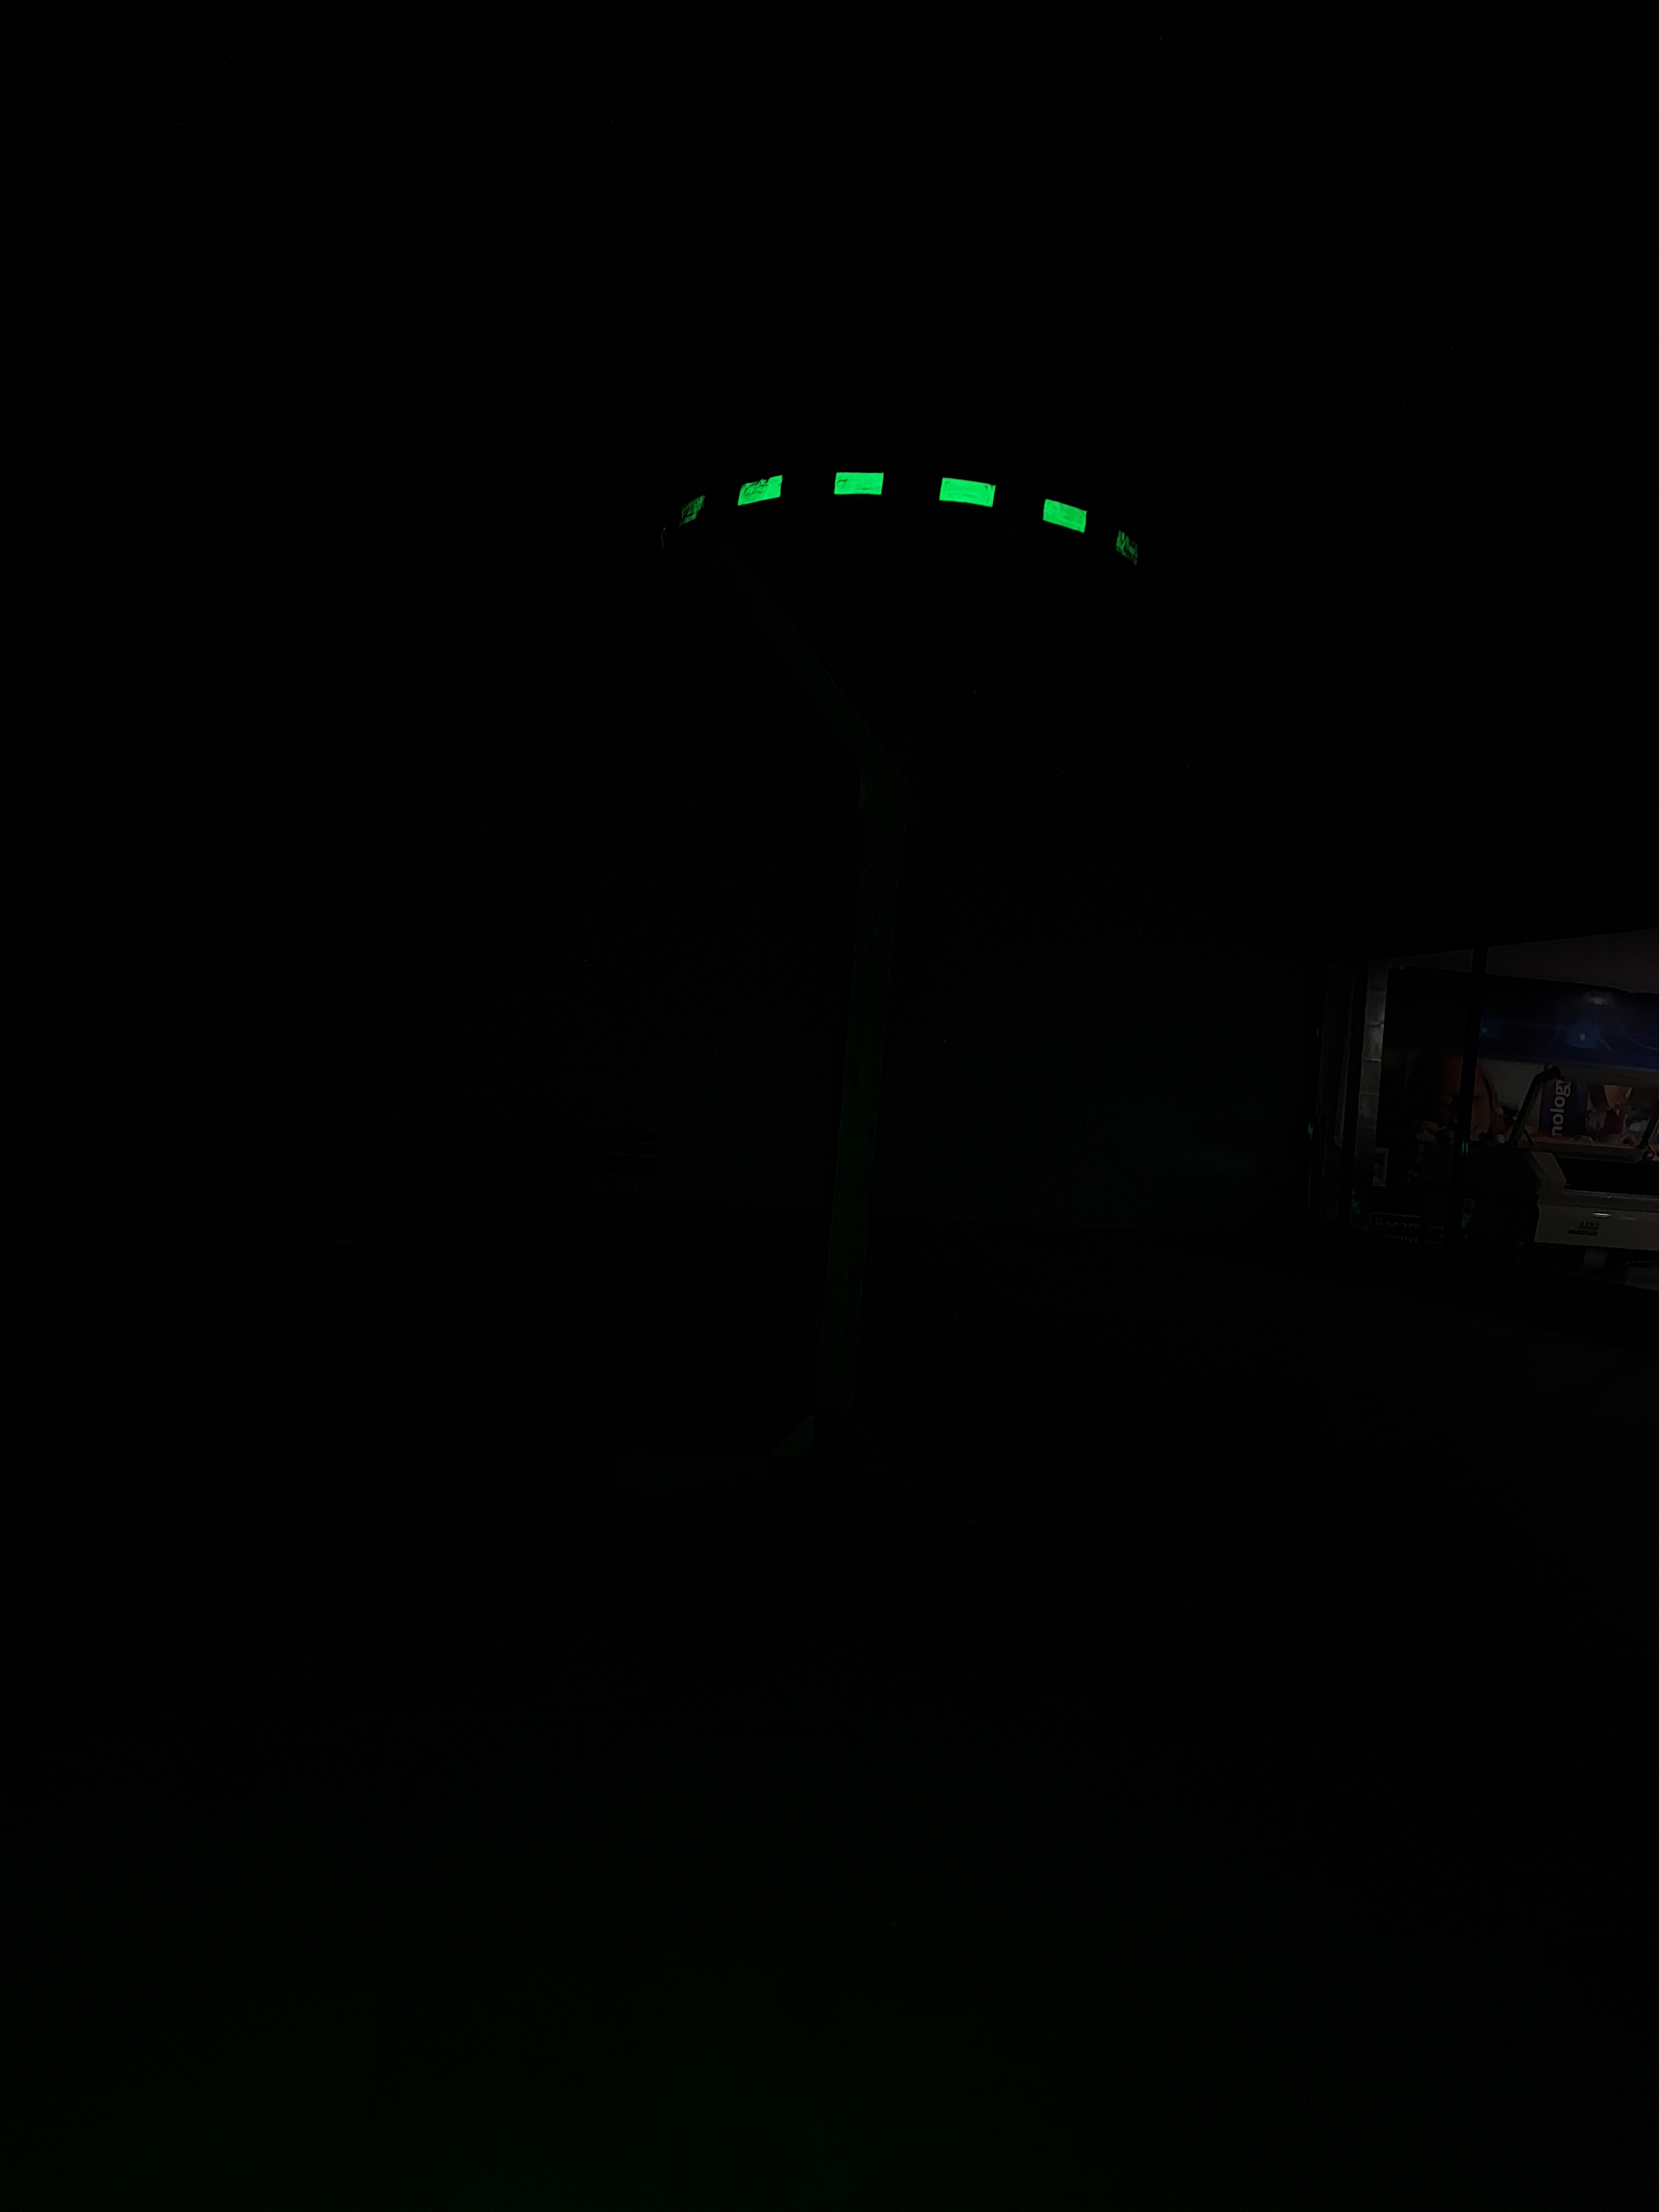hoop: (636, 451, 1166, 601)
